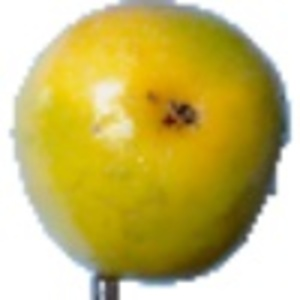maracujá: (9, 1, 294, 300)
